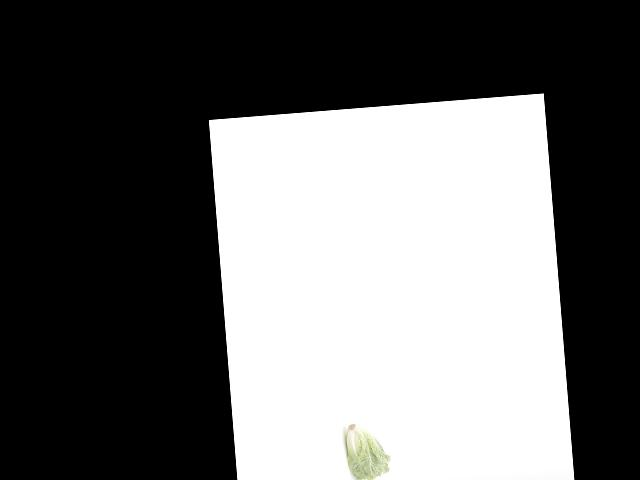lettuce: (342, 418, 392, 480)
